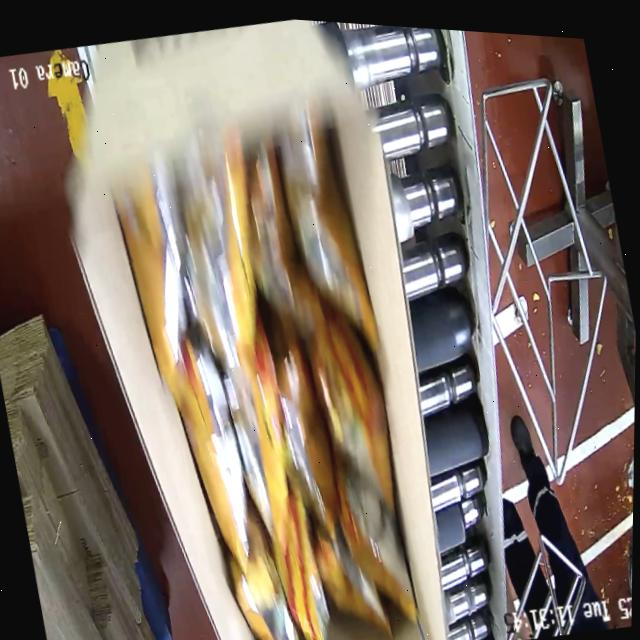FRENCH_CHEESE: (106, 129, 443, 640)
